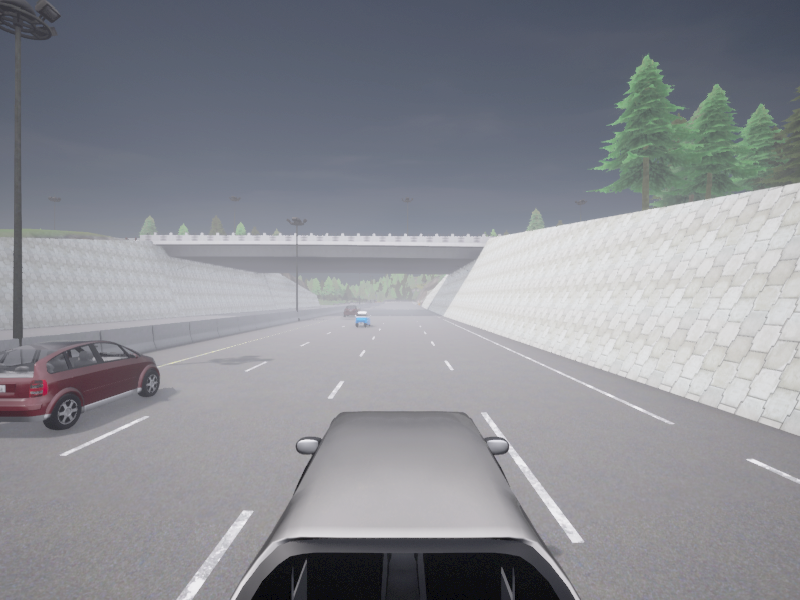vehicle: (229, 411, 580, 599), (0, 340, 159, 429), (355, 311, 370, 326), (343, 305, 360, 316)
